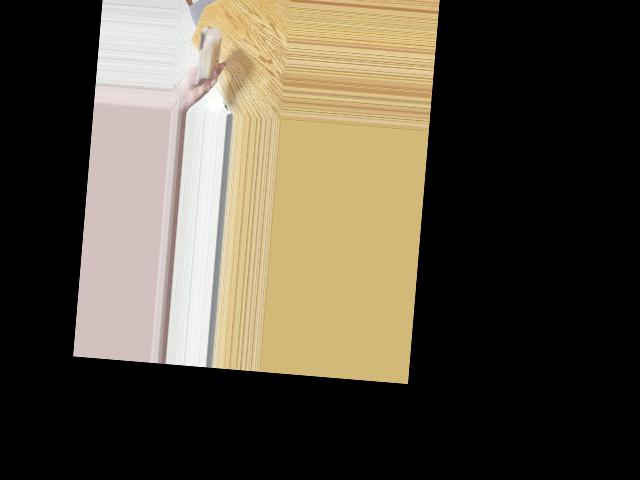cheese: (185, 29, 224, 83)
